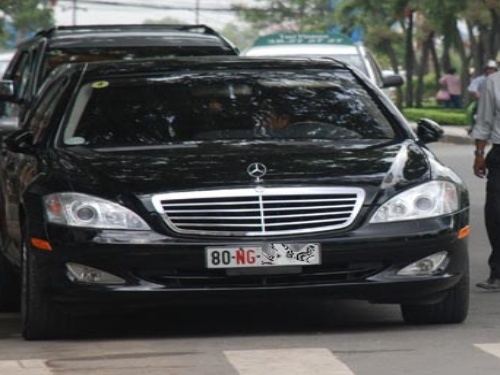plate: (201, 240, 327, 269)
